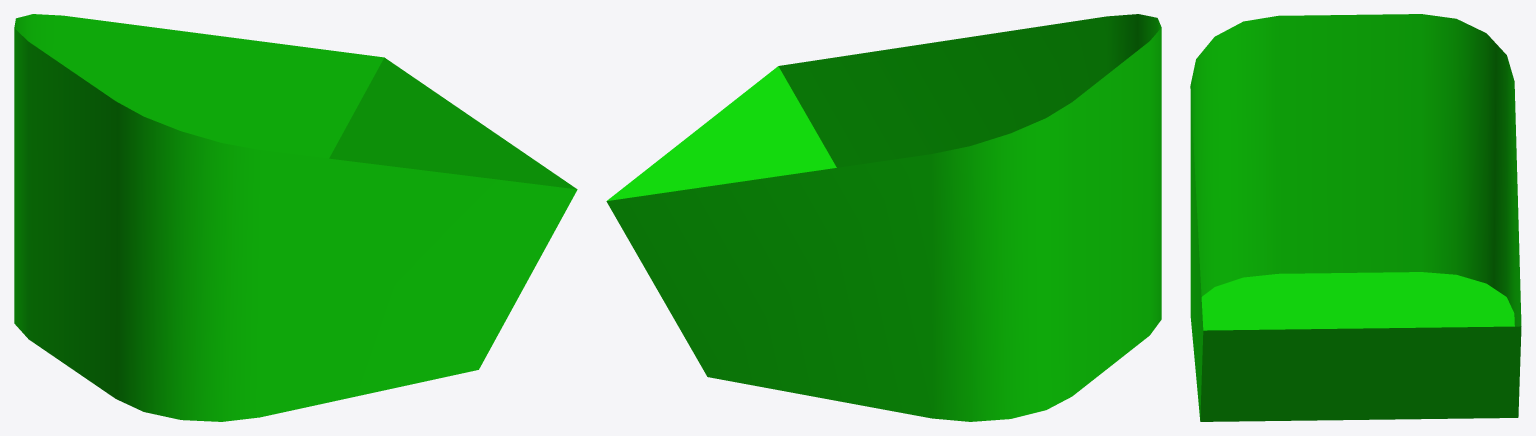
Rendered from sm_castle_034.fbx.
3 views of the same model, side by side, from view 1: azimuth 30°, elevation 25°; view 2: azimuth 150°, elevation 25°; view 3: azimuth 270°, elevation 25° (orthographic). The views are drawn at different scales.
Visible parts, largest first — view 1: sm_castle.034; view 2: sm_castle.034; view 3: sm_castle.034.
Boxes of the visible parts, bbox=[...] form: sm_castle.034: bbox=[14, 14, 577, 421]; sm_castle.034: bbox=[606, 14, 1161, 421]; sm_castle.034: bbox=[1190, 14, 1521, 421].
Size of the model in its own units: 388 by 274 by 303.
